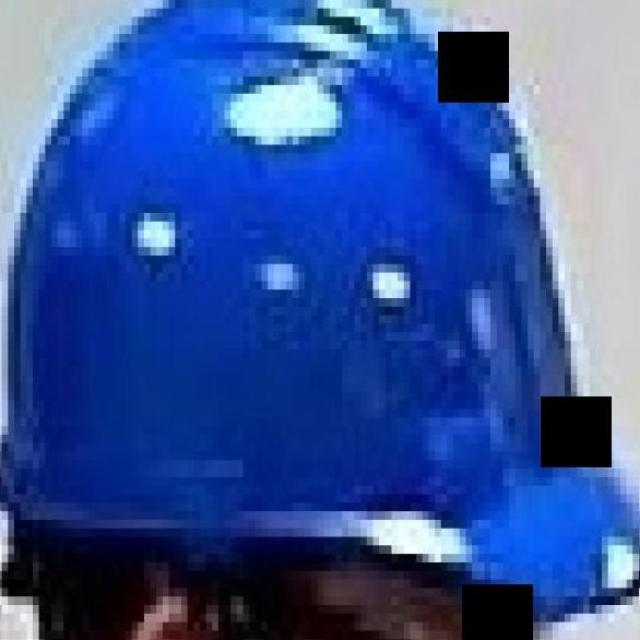blue helmet: (1, 1, 640, 624)
